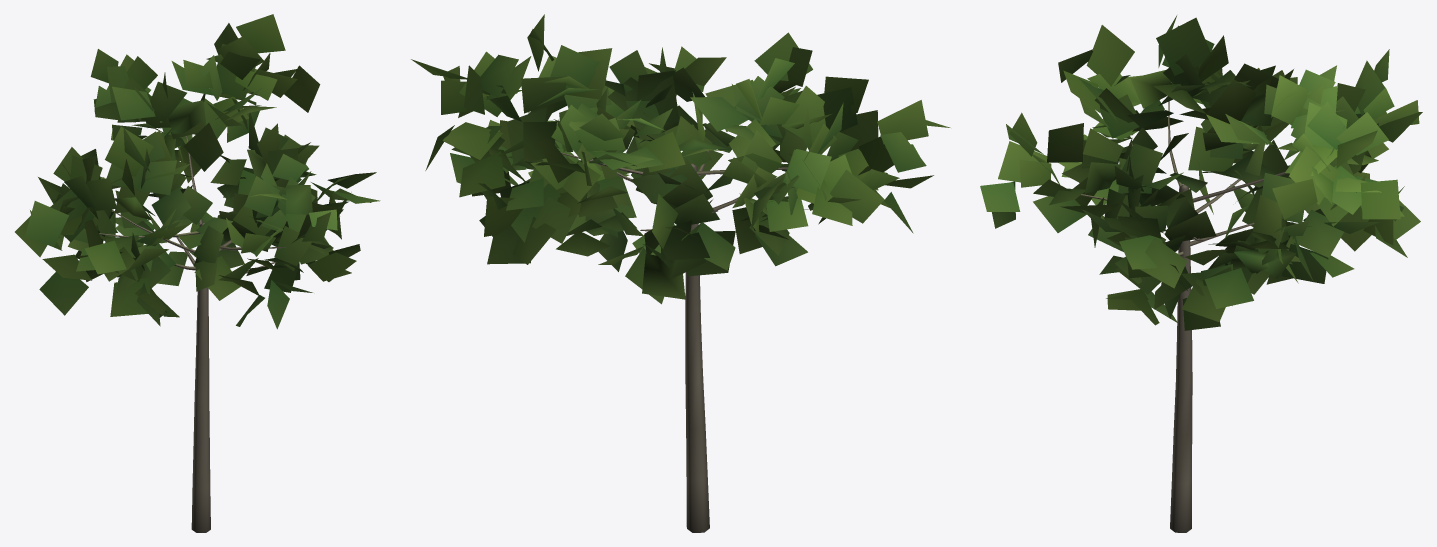
Rendered from emergent-a.lod2.glb.
3 views of the same model, side by side, from view 1: azimuth 30°, elevation 25°; view 2: azimuth 150°, elevation 25°; view 3: azimuth 270°, elevation 25° (orthographic). The views are drawn at different scales.
Size of the model in its own units: 23.19 by 27.7 by 22.19.
